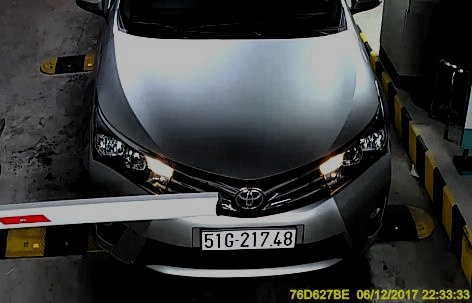plate: (201, 224, 295, 248)
